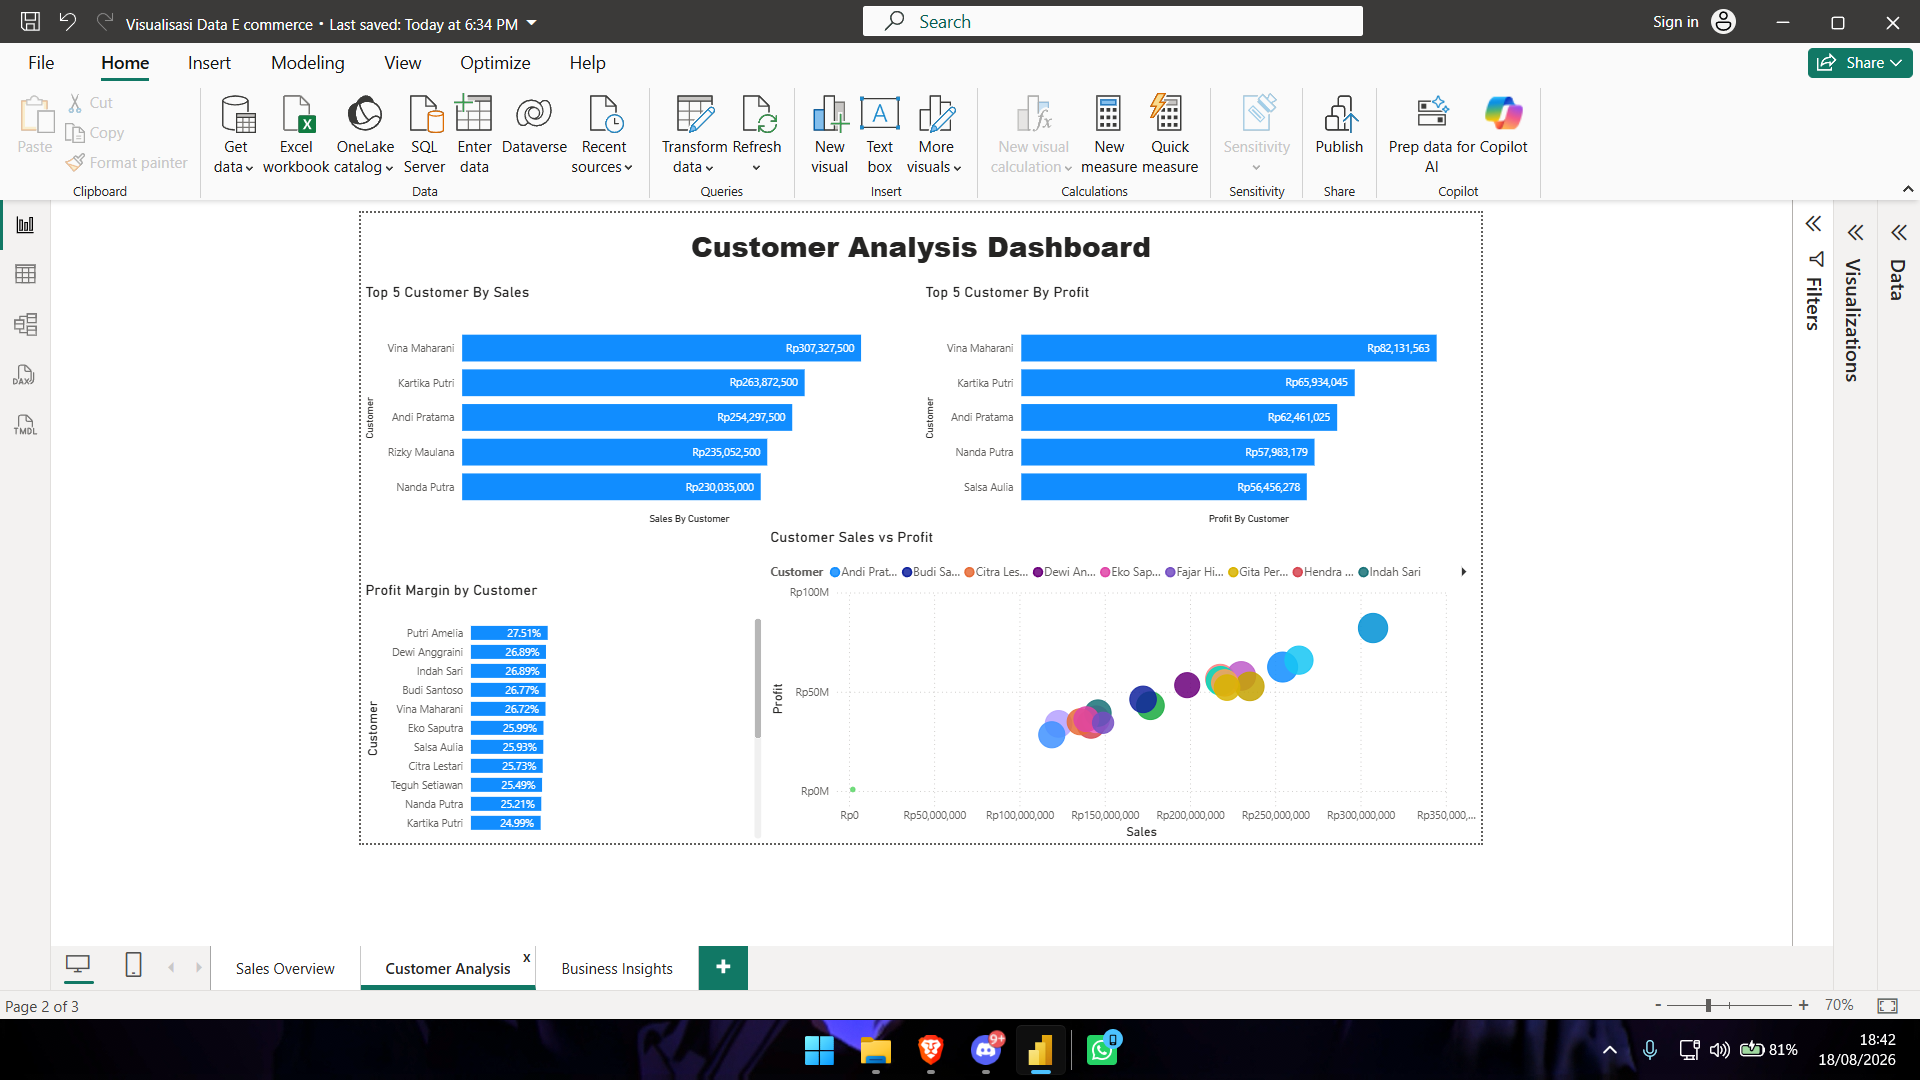

Layout of this report page (visuals, bound fields, positions):
{"tool":"powerbi","page":{"name":"Customer Analysis","canvas":[1280,720],"ordinal":1},"visuals":[{"type":"clusteredBarChart","title":"Top 5 Customer By Sales","fields":{"Category":["public data_mentah.Customer_Name"],"Y":["Sum(public data_mentah.Sales)"]},"box":[0,80,640,280],"z":0},{"type":"clusteredBarChart","title":"Top 5 Customer By Profit","fields":{"Category":["public data_mentah.Customer_Name"],"Y":["Sum(public data_mentah.Profit)"]},"box":[640,80,640,280],"z":1000},{"type":"clusteredBarChart","title":"Profit Margin by Customer","fields":{"Category":["public data_mentah.Customer_Name"],"Y":["public data_mentah.Profit Margin"]},"box":[0,420,462.9,300],"z":2000},{"type":"scatterChart","title":"Customer Sales vs Profit","fields":{"X":["Sum(public data_mentah.Sales)"],"Y":["Sum(public data_mentah.Profit)"],"Series":["public data_mentah.Customer_Name"],"Size":["Sum(public data_mentah.Quantity)"]},"box":[462.9,360,817.1,360],"z":3000},{"type":"textbox","box":[347.1,10,585.7,70],"z":4000}]}

Visuals, with their boxes on the page's 1280x720 design canvas (x1, y1, x2, y2). These are canvas units, not pixel positions in the 1920x1080 screenshot, which may show the page scaled, cropped or inside an application window:
"Top 5 Customer By Sales" clusteredBarChart: pyautogui.locateOnScreen(0, 80, 640, 360)
"Top 5 Customer By Profit" clusteredBarChart: pyautogui.locateOnScreen(640, 80, 1280, 360)
"Profit Margin by Customer" clusteredBarChart: pyautogui.locateOnScreen(0, 420, 463, 720)
"Customer Sales vs Profit" scatterChart: pyautogui.locateOnScreen(463, 360, 1280, 720)
textbox: pyautogui.locateOnScreen(347, 10, 933, 80)
